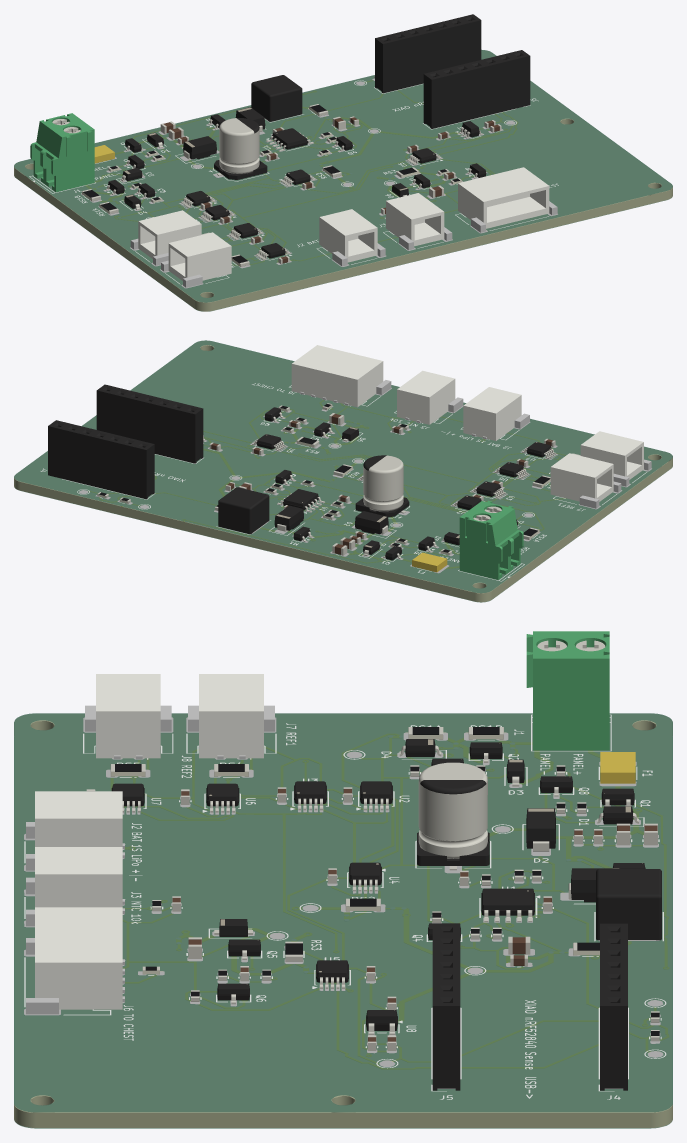
The model's file is pmbh.mo.glb.
3 renders of one model, top to bottom at view 1: azimuth 30°, elevation 25°; view 2: azimuth 150°, elevation 25°; view 3: azimuth 270°, elevation 25°, orthographic. The views are drawn at different scales.
Visible parts, largest first — view 1: =>[0:1:1:63], =>[0:1:1:65], =>[0:1:1:40] (×2), =>0:1:1:14 (×4), =>0:1:1:31, =>[0:1:1:52], =>[0:1:1:42], =>[0:1:1:59], =>[0:1:1:61], =>[0:1:1:44], =>[0:1:1:58], =>[0:1:1:20] (+2 smaller); view 2: =>[0:1:1:63], =>[0:1:1:65], =>[0:1:1:40] (×2), =>0:1:1:14 (×4), =>0:1:1:31, =>[0:1:1:52], =>[0:1:1:42], =>[0:1:1:61], =>[0:1:1:44], =>[0:1:1:59], =>[0:1:1:58], =>[0:1:1:20] (×2) (+3 smaller); view 3: =>[0:1:1:63], =>[0:1:1:65], =>0:1:1:14 (×4), =>[0:1:1:52], =>[0:1:1:40] (×2), =>0:1:1:31, =>[0:1:1:58], =>[0:1:1:42], =>[0:1:1:61], =>[0:1:1:59], =>[0:1:1:11] (×5), =>[0:1:1:44] (+3 smaller).
Boxes of the visible parts, box(x1,y1,x2,y2) form: =>[0:1:1:63]: box(14, 49, 672, 302); =>[0:1:1:65]: box(14, 50, 672, 311); =>[0:1:1:40] (×2): box(375, 14, 530, 128); =>0:1:1:14 (×4): box(138, 193, 444, 280); =>0:1:1:31: box(458, 167, 549, 228); =>[0:1:1:52]: box(30, 113, 94, 192); =>[0:1:1:42]: box(214, 118, 267, 179); =>[0:1:1:59]: box(81, 78, 557, 288); =>[0:1:1:61]: box(29, 80, 558, 284); =>[0:1:1:44]: box(251, 75, 302, 121); =>[0:1:1:58]: box(86, 81, 517, 264); =>[0:1:1:20]: box(183, 136, 216, 159); =>[0:1:1:63]: box(14, 340, 672, 593); =>[0:1:1:65]: box(14, 341, 672, 602); =>[0:1:1:40] (×2): box(48, 384, 203, 499); =>0:1:1:14 (×4): box(397, 370, 643, 501); =>0:1:1:31: box(291, 345, 383, 407); =>[0:1:1:52]: box(459, 500, 523, 579); =>[0:1:1:42]: box(355, 455, 409, 517); =>[0:1:1:61]: box(40, 383, 646, 581); =>[0:1:1:44]: box(218, 487, 269, 534); =>[0:1:1:59]: box(79, 388, 651, 573); =>[0:1:1:58]: box(90, 400, 565, 568); =>[0:1:1:20] (×2): box(274, 505, 388, 534); =>[0:1:1:63]: box(14, 713, 672, 1112); =>[0:1:1:65]: box(14, 714, 672, 1127); =>0:1:1:14 (×4): box(35, 674, 263, 907); =>[0:1:1:52]: box(526, 631, 609, 750); =>[0:1:1:40] (×2): box(432, 923, 627, 1090); =>0:1:1:31: box(35, 907, 122, 1009); =>[0:1:1:58]: box(111, 734, 668, 1068); =>[0:1:1:42]: box(417, 762, 489, 870); =>[0:1:1:61]: box(24, 714, 666, 1099); =>[0:1:1:59]: box(24, 717, 663, 1088); =>[0:1:1:11] (×5): box(206, 781, 392, 988); =>[0:1:1:44]: box(596, 869, 661, 940).
Size of the model in its own units: 0.086 by 0.0137 by 0.06.
